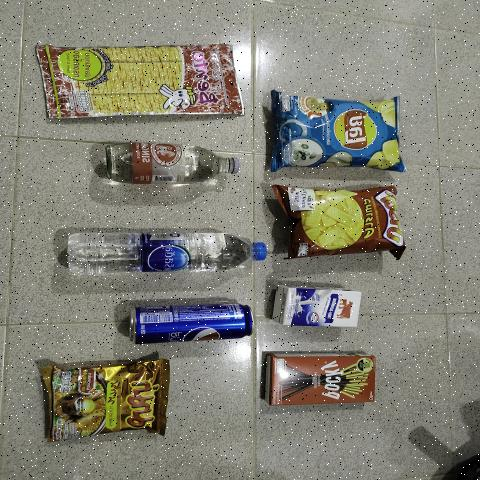bento_red: (43, 44, 244, 123)
crystal: (63, 229, 270, 279)
lay_blue: (282, 100, 398, 168)
mama: (51, 361, 169, 441)
party_red: (294, 187, 402, 257)
pepsi_blue: (125, 300, 260, 346)
pokki: (263, 356, 374, 404)
singha_soda: (99, 141, 238, 191)
